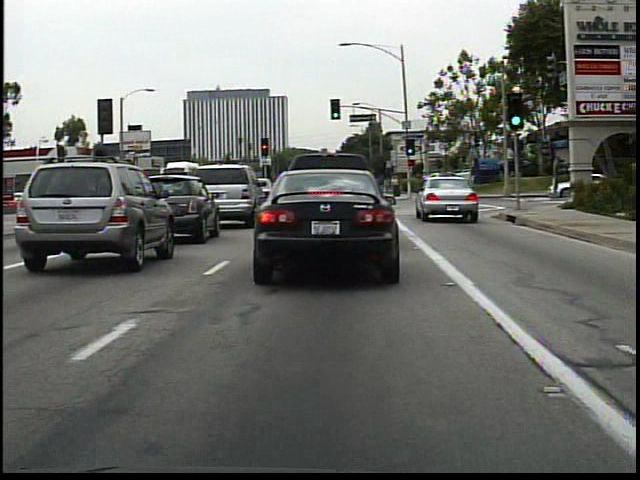person: (390, 174, 404, 199)
